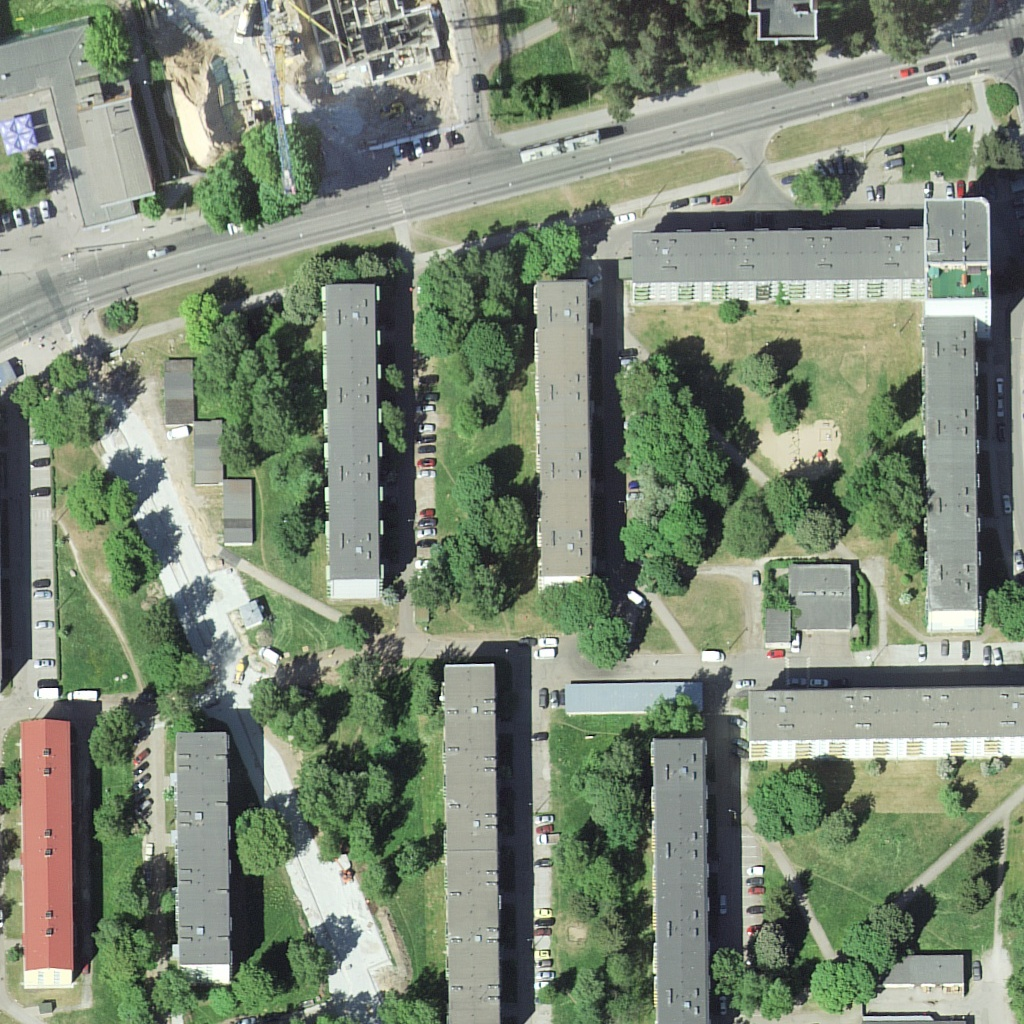building: (435, 661, 505, 1024), (44, 19, 159, 232), (624, 222, 923, 302), (739, 687, 1024, 768), (527, 274, 599, 594), (917, 320, 989, 639), (321, 292, 389, 609), (642, 738, 716, 1024), (165, 726, 240, 983), (16, 716, 76, 989), (916, 190, 987, 317), (770, 552, 856, 653), (562, 679, 710, 720), (882, 953, 973, 993), (158, 353, 202, 428), (220, 477, 257, 552), (190, 424, 227, 489)
